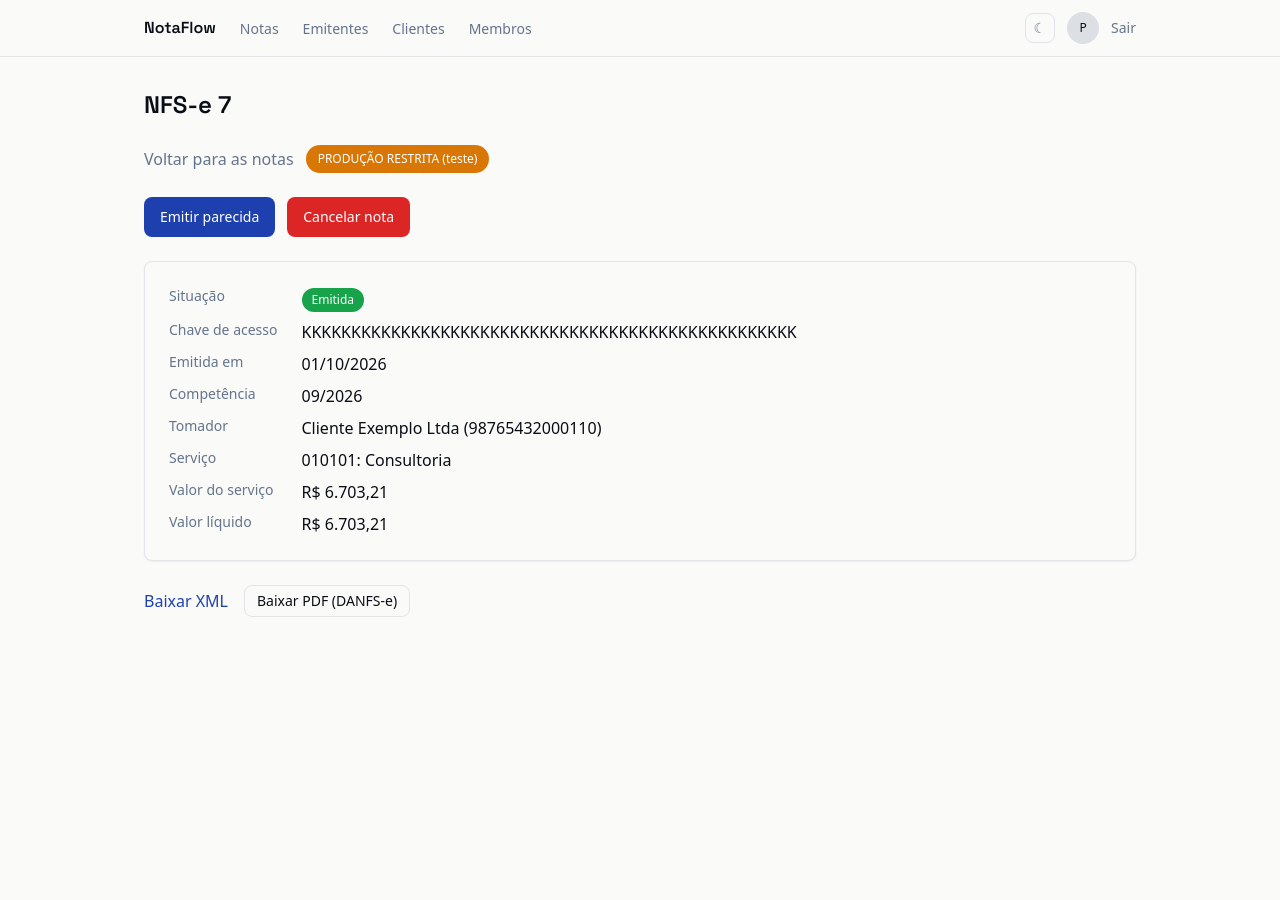
it: a Sefin refusal shows its code and message in the dialog
Click the button "Cancelar nota" at (349, 217), box [287, 197, 410, 237]
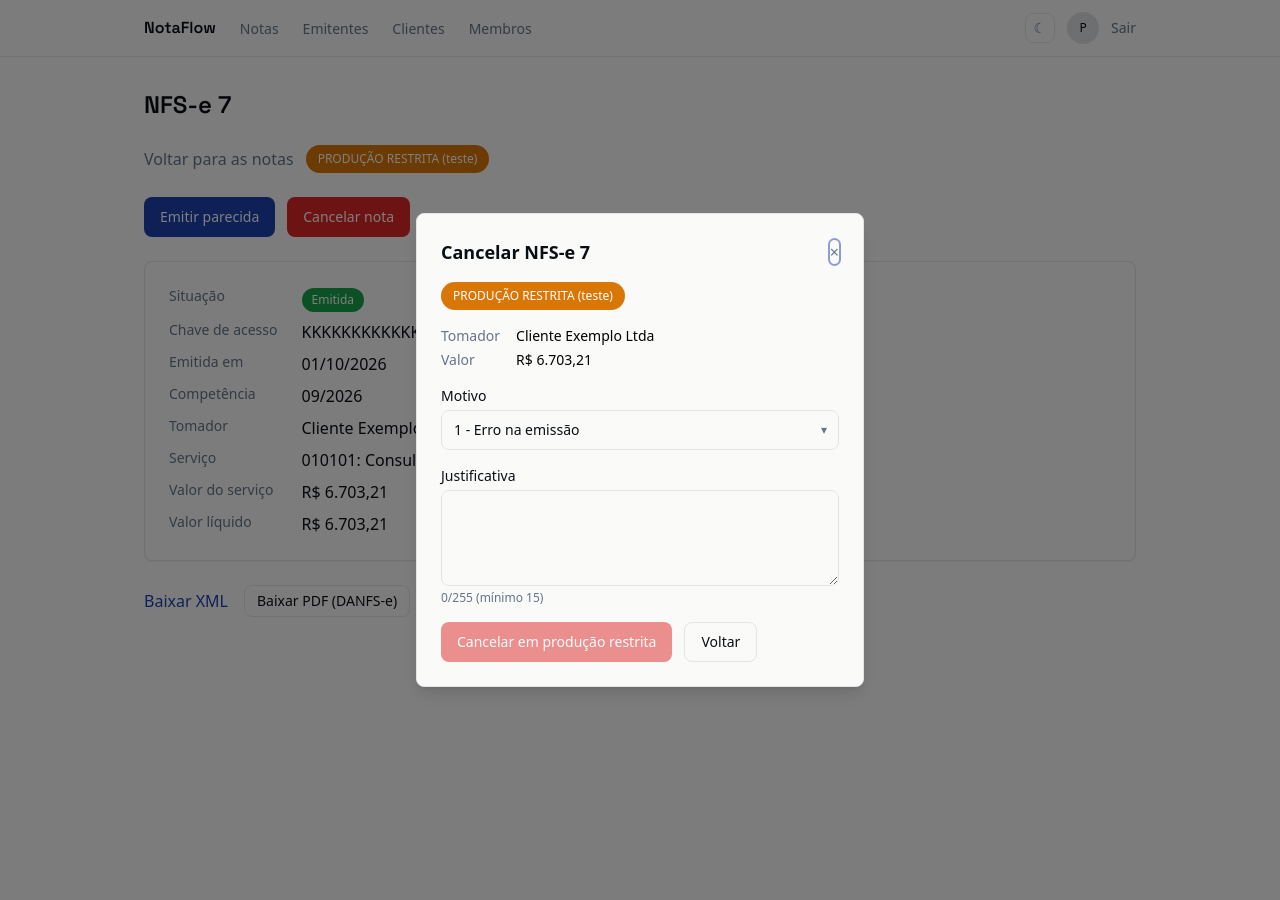
Type "Valor do serviço incorreto" into the text box labelled "Justificativa 0/255 (mínimo 15)" at (640, 538), box [441, 490, 839, 586]
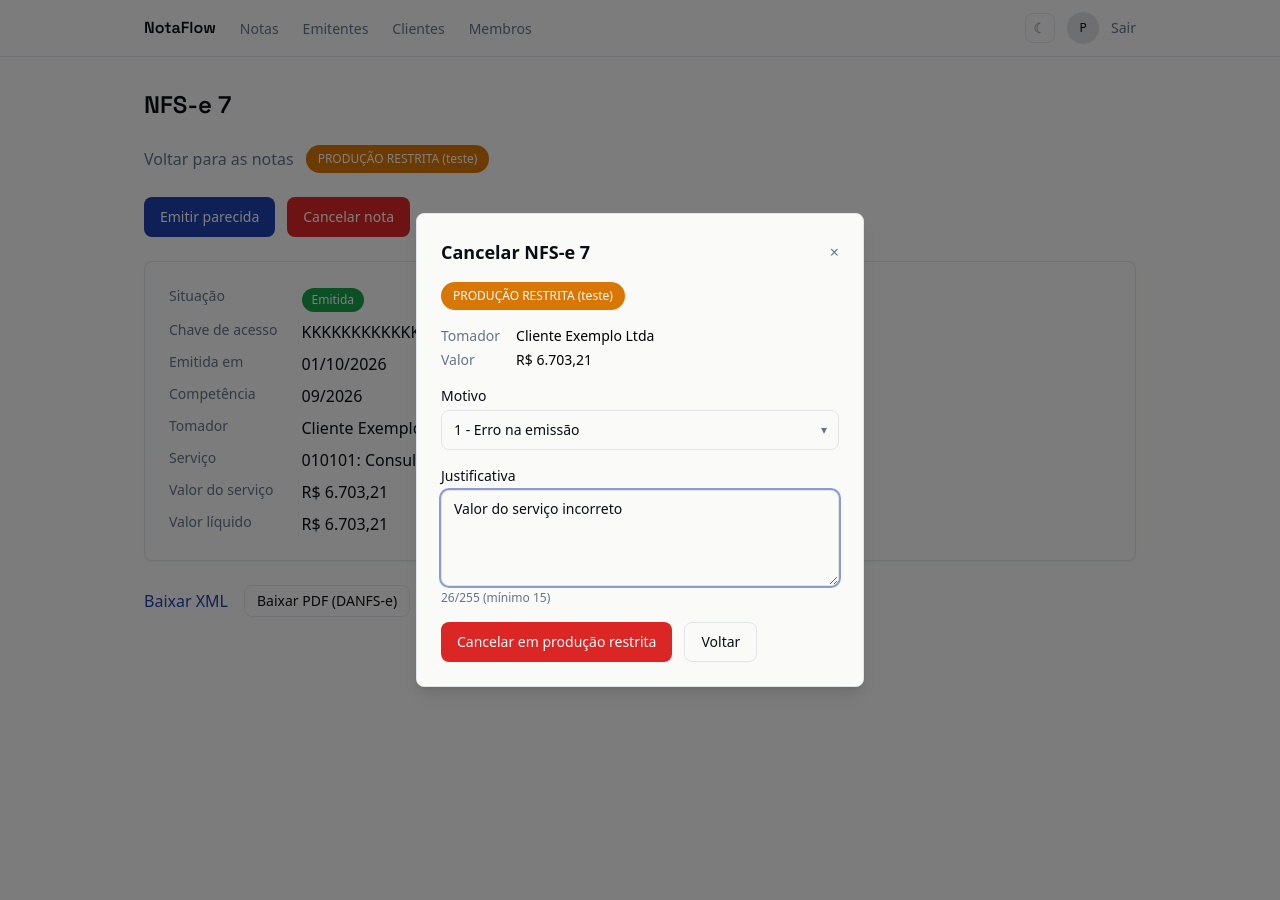
Click the button "Cancelar em produção restrita" at (557, 642), box [441, 622, 672, 662]
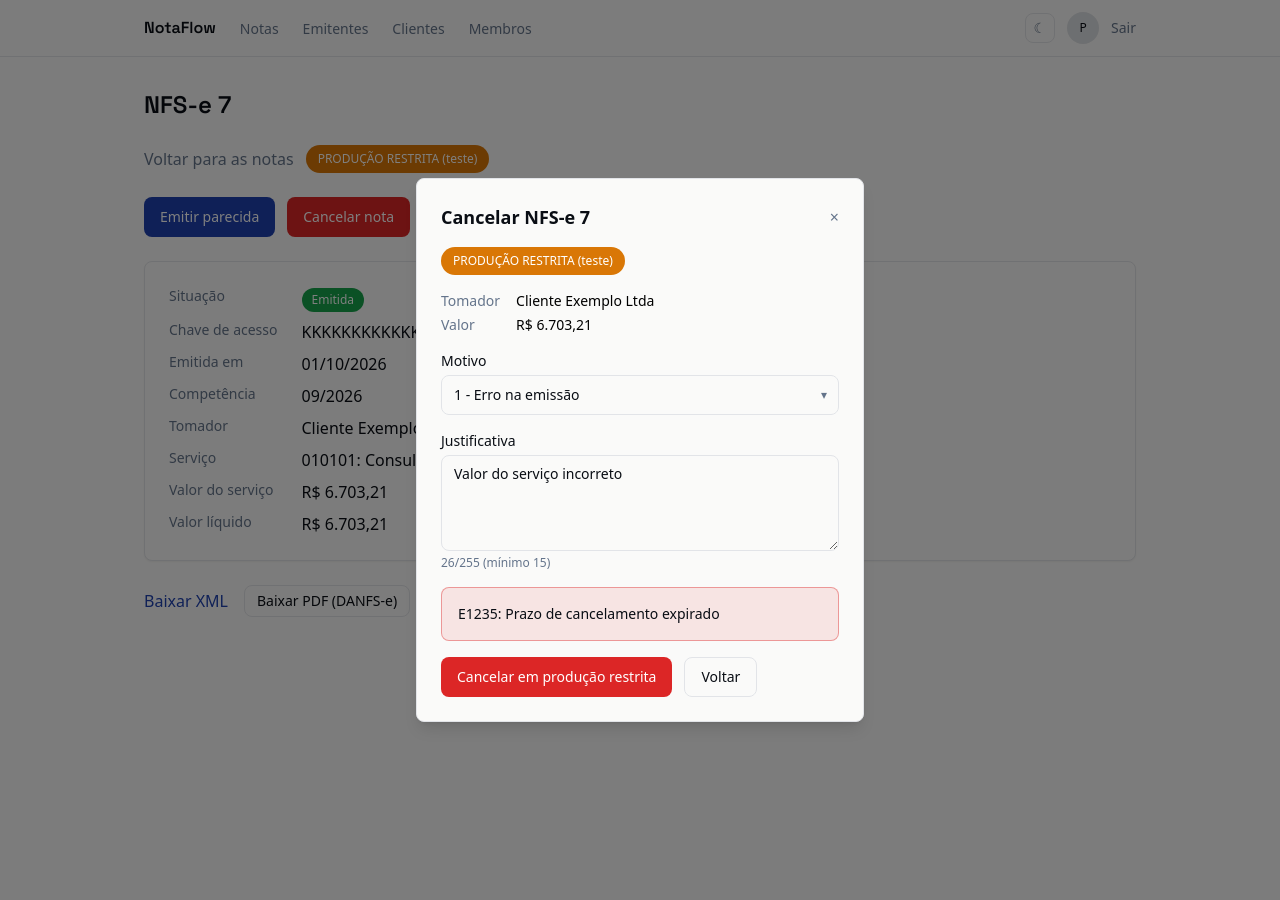
expect the text "E1235: Prazo de cancelamento expirado" is shown: met, box [441, 587, 839, 641]
